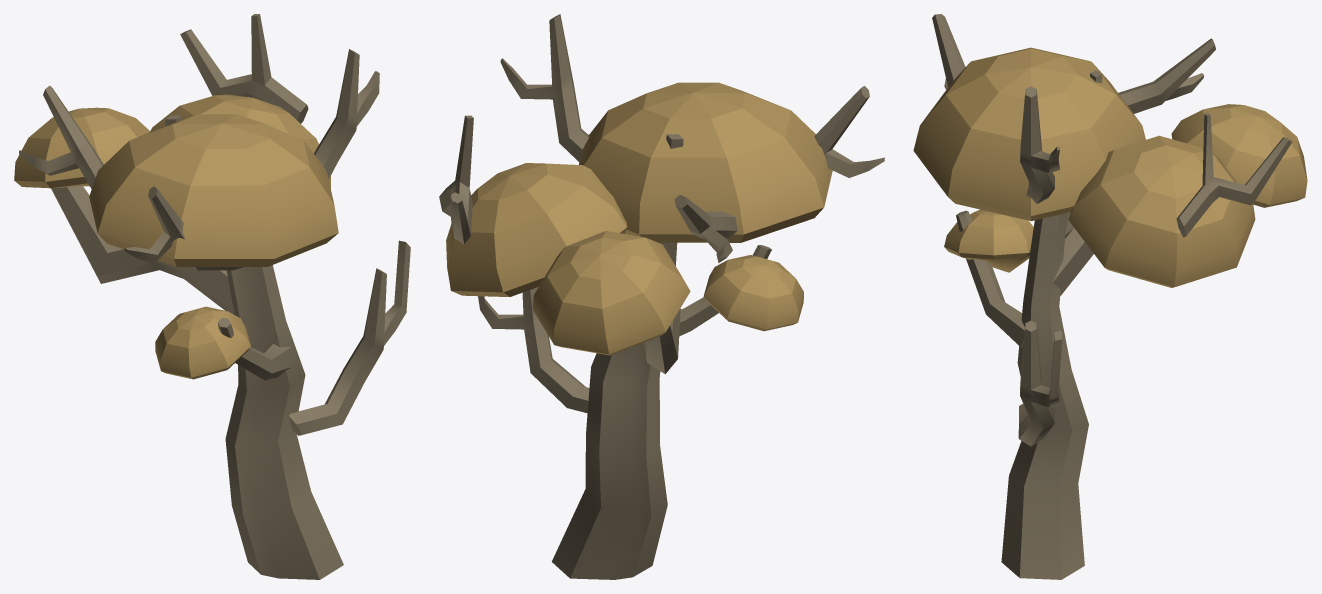
Rendered from chestnut-autum2.fbx.
The picture shows the model from 3 angles, left to right: view 1: azimuth 30°, elevation 25°; view 2: azimuth 150°, elevation 25°; view 3: azimuth 270°, elevation 25°; orthographic projection. The views are drawn at different scales.
Visible parts, largest first — view 1: pSphere65; view 2: pSphere65; view 3: pSphere65.
Boxes of the visible parts, left/top/right/bottom form: pSphere65: left=14, top=14, right=410, bottom=579; pSphere65: left=439, top=14, right=884, bottom=579; pSphere65: left=913, top=14, right=1307, bottom=579.
Size of the model in its own units: 14.97 by 21.35 by 15.33.
